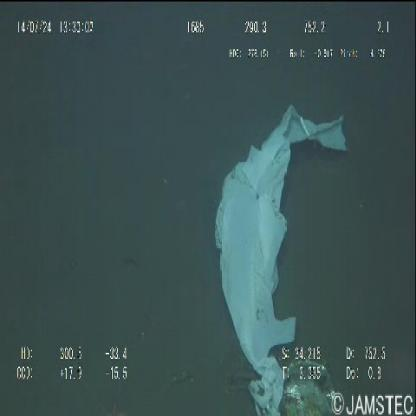Rác: (214, 104, 349, 415)
